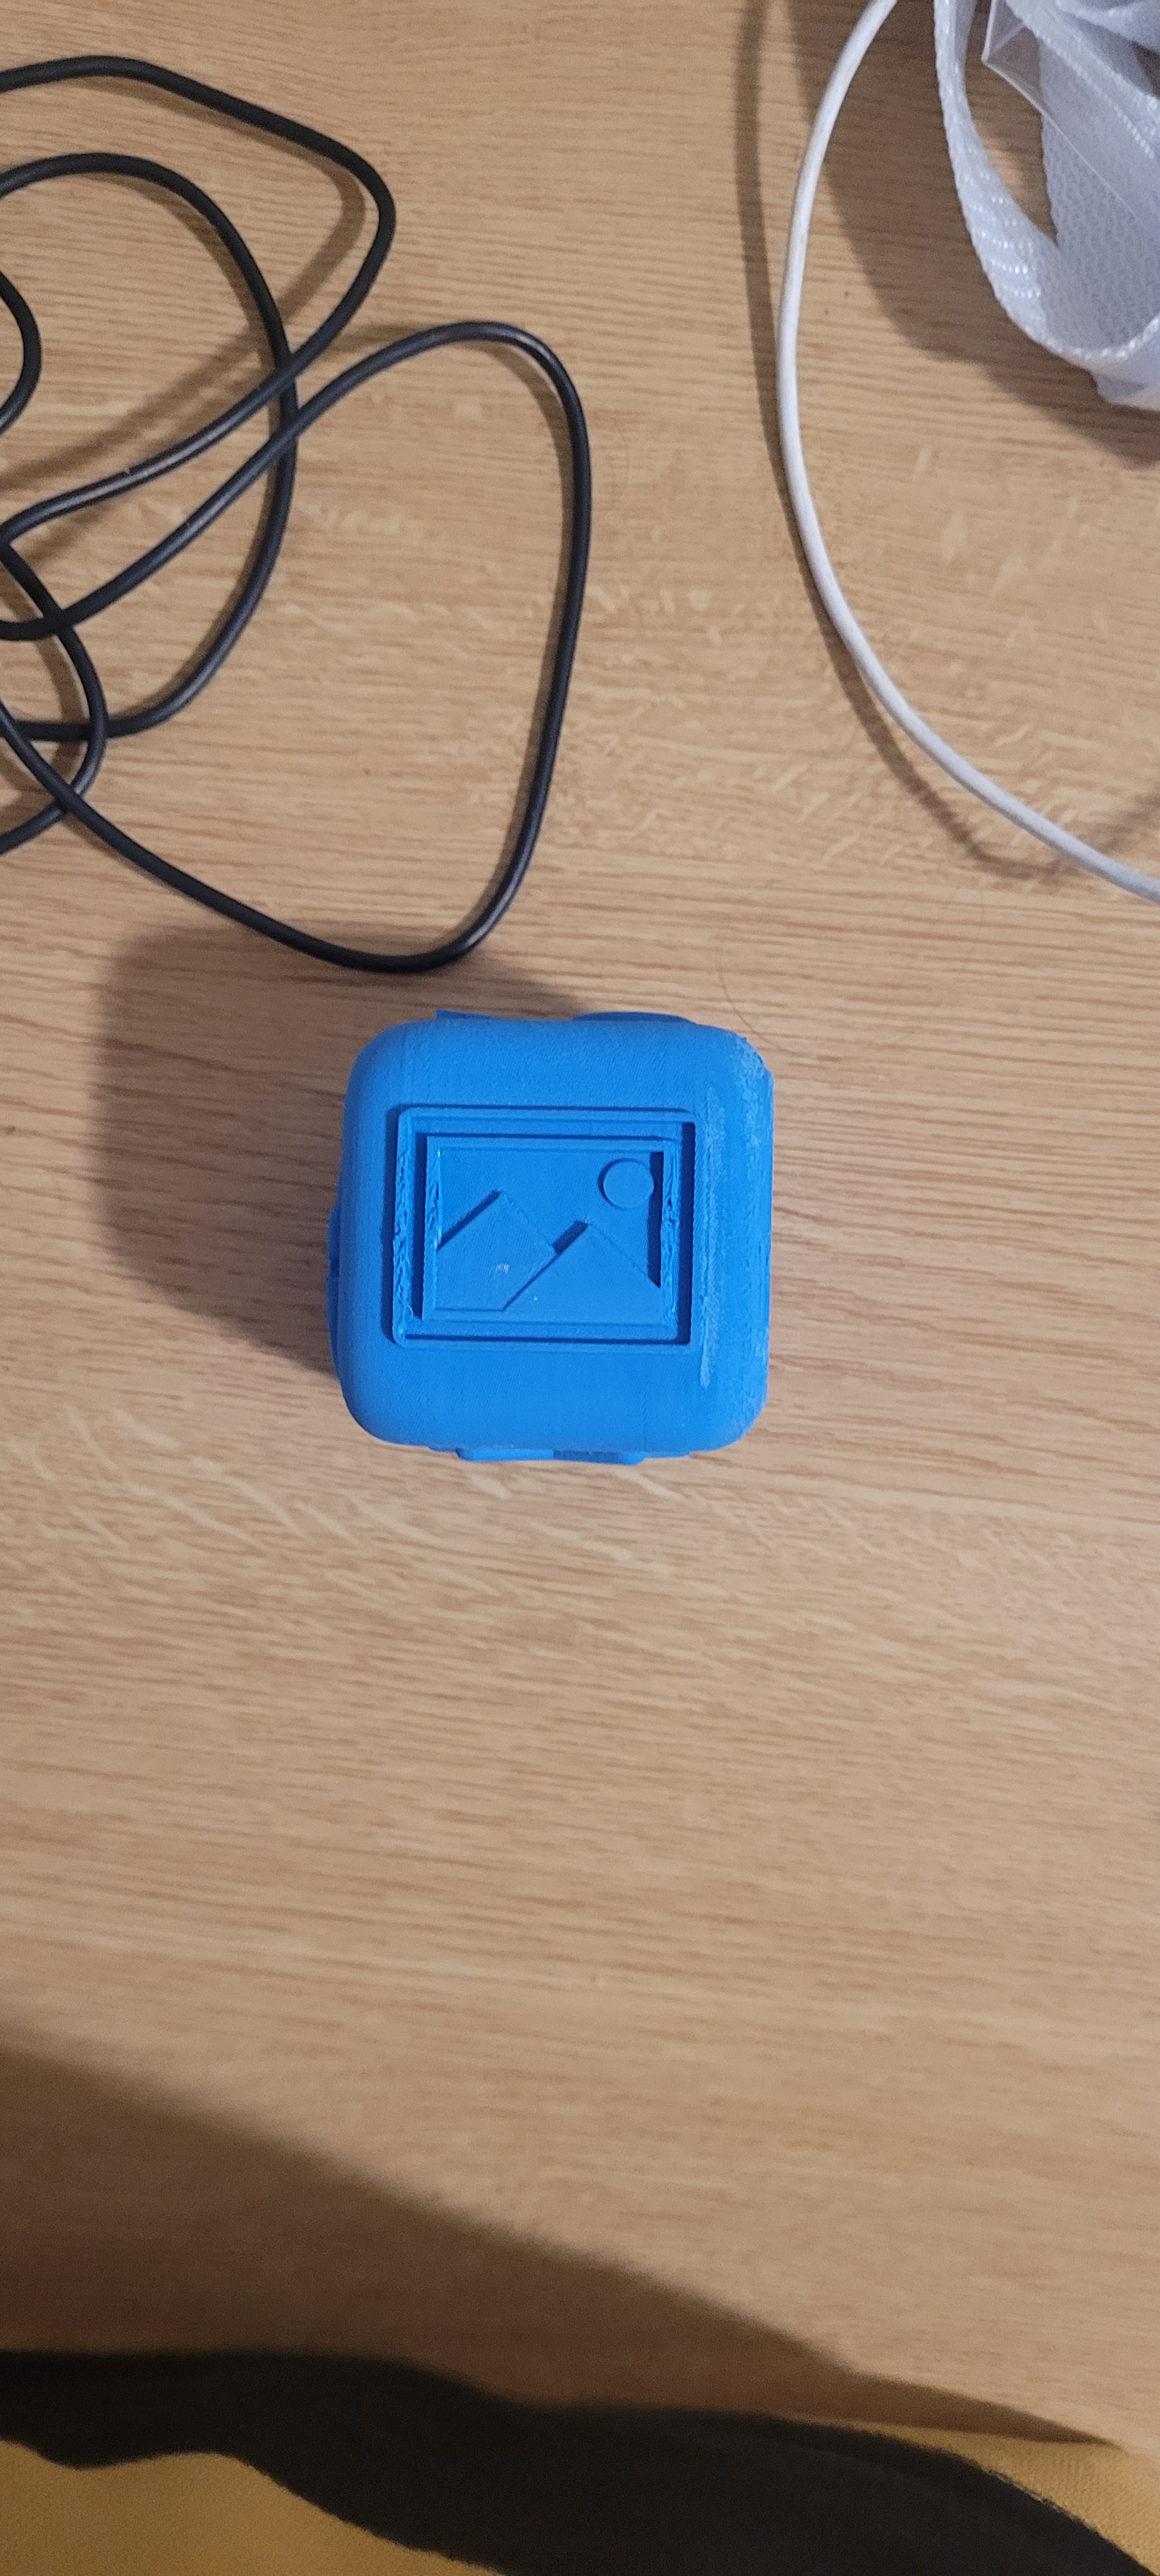Story: (373, 1053, 728, 1380)
